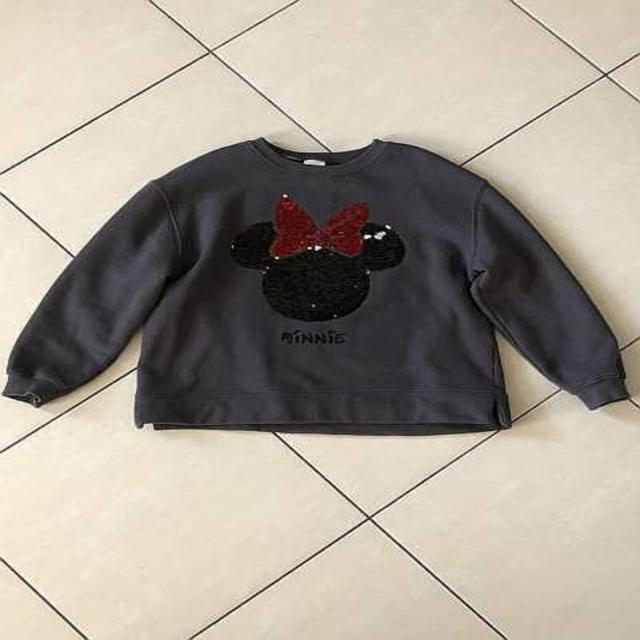SHIRT: (0, 116, 640, 440)
